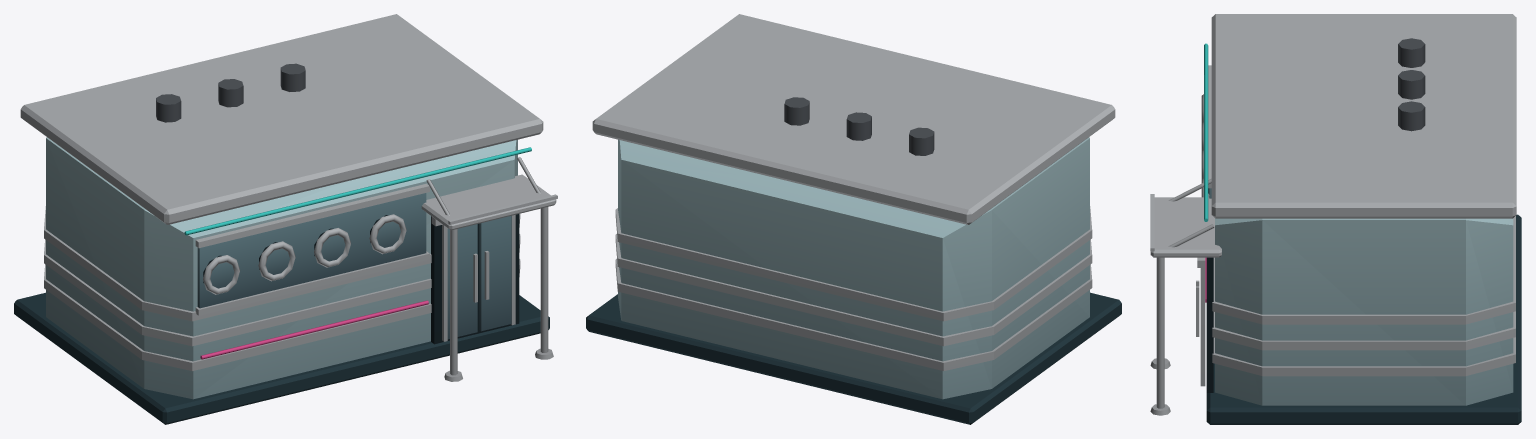
The model's file is streamline_diner.glb.
The picture shows the model from 3 angles, left to right: view 1: azimuth 30°, elevation 25°; view 2: azimuth 150°, elevation 25°; view 3: azimuth 270°, elevation 25°; orthographic projection. The views are drawn at different scales.
Visible parts, largest first — view 1: streamline_diner; view 2: streamline_diner; view 3: streamline_diner.
Part boxes in pixels (bbox=[...]): streamline_diner: bbox=[14, 14, 557, 424]; streamline_diner: bbox=[586, 14, 1121, 424]; streamline_diner: bbox=[1150, 14, 1521, 424].
Bounding box in the file's own units: 6.84 × 3.88 × 5.47.
